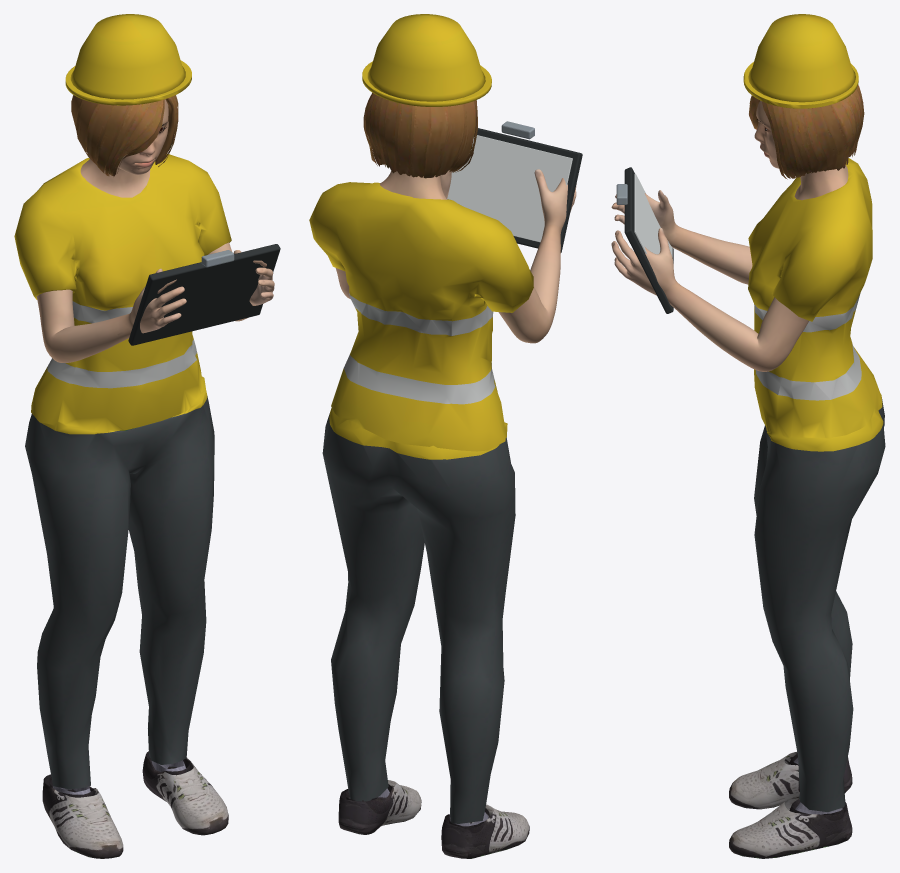
Rendered from worker-qc.glb.
3 renders of one model, left to right at view 1: azimuth 30°, elevation 25°; view 2: azimuth 150°, elevation 25°; view 3: azimuth 270°, elevation 25°, orthographic. The views are drawn at different scales.
Visible parts, largest first — view 1: female_casualsuit01, Taylor | anatomical body, shoes05, Tablet case, bob02; view 2: female_casualsuit01, Tablet display, bob02, Taylor | anatomical body, shoes05, Tablet case; view 3: female_casualsuit01, Taylor | anatomical body, shoes05, bob02, Tablet case, Tablet display.
Part boxes in pixels (x1,y1,x2,y2): female_casualsuit01: (14, 14, 231, 789); Taylor | anatomical body: (36, 99, 274, 362); shoes05: (42, 751, 228, 858); Tablet case: (128, 244, 280, 345); bob02: (71, 95, 178, 176); female_casualsuit01: (309, 14, 533, 823); Tablet display: (447, 135, 572, 242); bob02: (363, 93, 477, 178); Taylor | anatomical body: (335, 169, 576, 343); shoes05: (338, 780, 529, 858); Tablet case: (477, 128, 582, 252); female_casualsuit01: (743, 14, 885, 812); Taylor | anatomical body: (611, 100, 848, 371); shoes05: (729, 752, 852, 858); bob02: (749, 85, 864, 179); Tablet case: (624, 167, 673, 313); Tablet display: (634, 173, 672, 257).
Bounding box in the file's own units: 0.4618 × 1.77 × 0.5461.
Materials: 14 (13 with a texture image).
